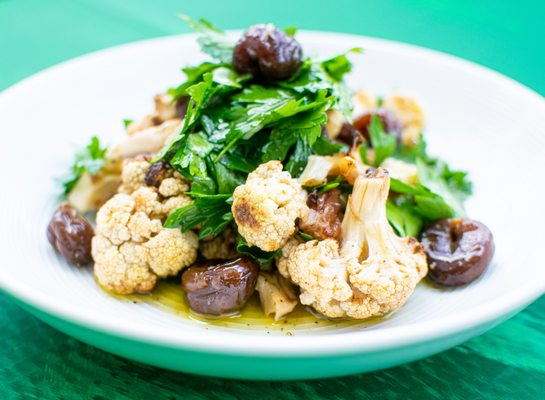curry: (0, 12, 542, 386)
